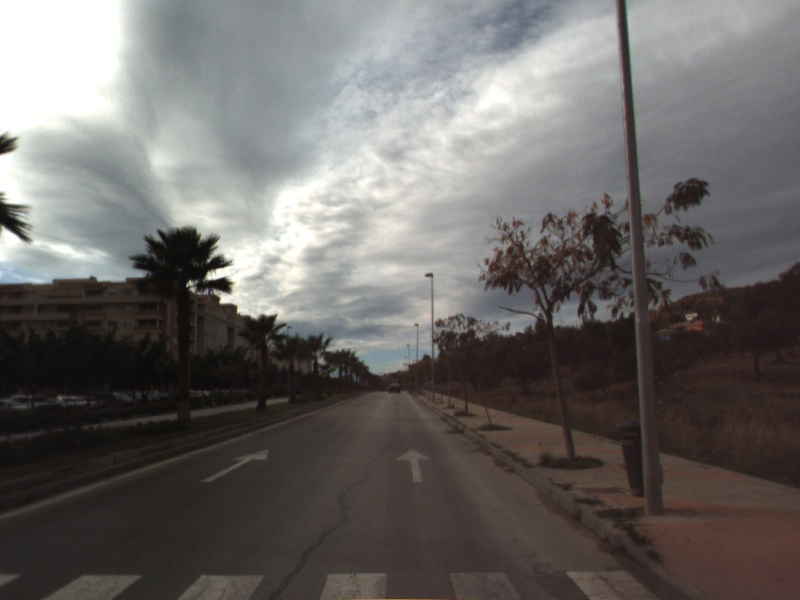STRAIGHT: (199, 447, 270, 484), (395, 447, 434, 484)
